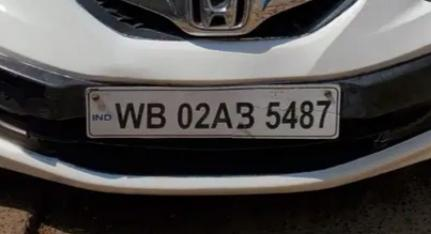0: (176, 98, 195, 133)
2: (194, 95, 213, 134)
4: (282, 91, 299, 134)
5: (263, 91, 283, 135)
7: (313, 93, 335, 133)
8: (298, 93, 315, 134)
A: (212, 98, 234, 134)
B: (232, 94, 259, 131), (146, 94, 167, 133)
W: (113, 95, 146, 133)
